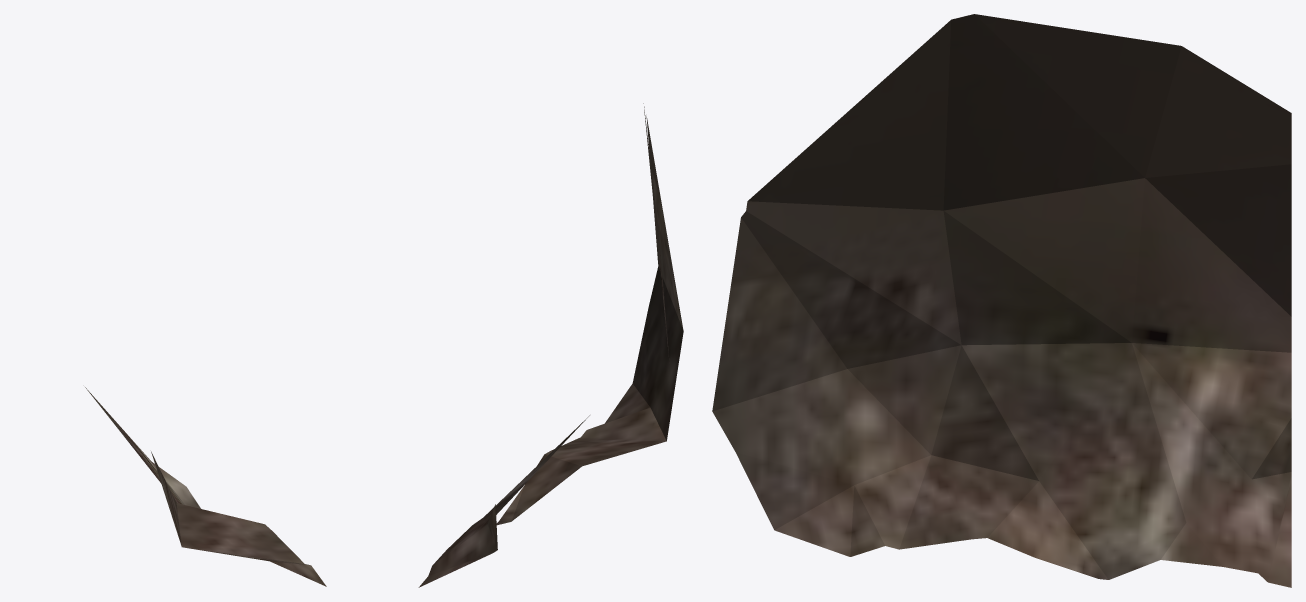
3 renders of one model, left to right at view 1: azimuth 30°, elevation 25°; view 2: azimuth 150°, elevation 25°; view 3: azimuth 270°, elevation 25°, orthographic. The views are drawn at different scales.
Bounding box in the file's own units: 0.2239 × 0.8829 × 0.8077.
1 material, 1 textured.
